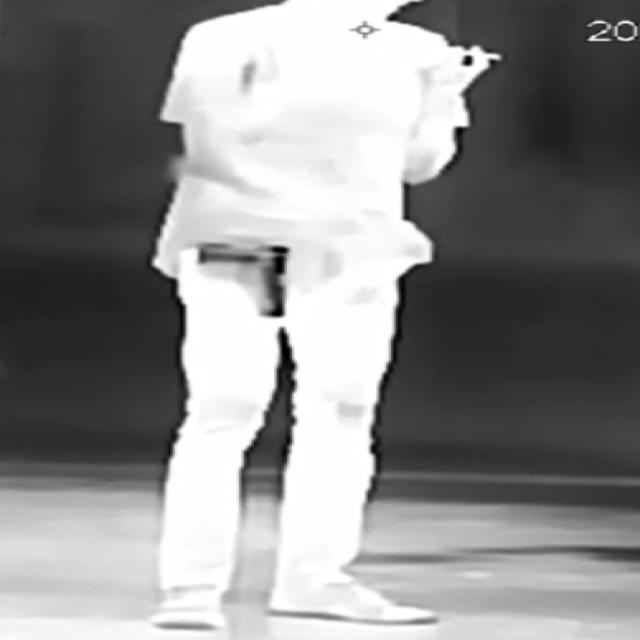Weapon: (183, 231, 313, 337)
